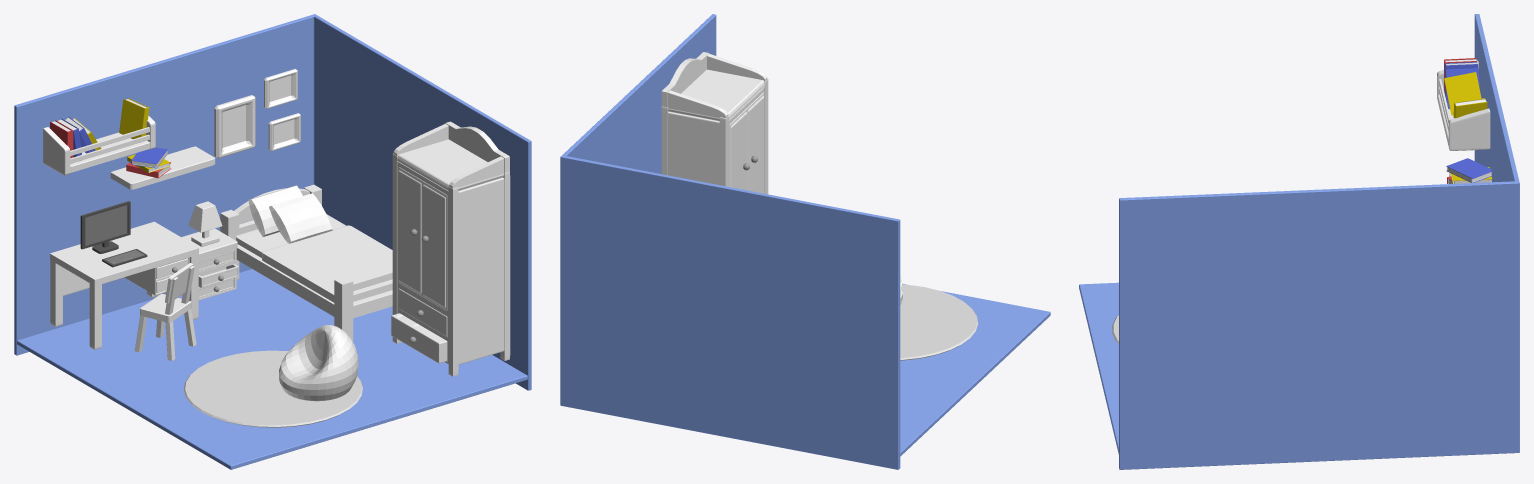
File: room.glb
The picture shows the model from 3 angles, left to right: view 1: azimuth 30°, elevation 25°; view 2: azimuth 150°, elevation 25°; view 3: azimuth 270°, elevation 25°; orthographic projection. The views are drawn at different scales.
Parts seen in each view (by area): view 1: Wall, Floor, Wardrobe 1, Bed 1, Carpet 1, Table 1, Seat 1, Wall bookshelf.001, Chair 1, Bedside table 1, Picture 1.001, PC 1 (+7 smaller); view 2: Wall, Wardrobe 1, Floor, Carpet 1; view 3: Wall, Floor, Wall bookshelf.001, Book stack 2.001, Book stack 1.001, Cube.008.
Part boxes in pixels (<box>): Wall: <box>14,14,531,390</box>; Floor: <box>17,269,527,469</box>; Wardrobe 1: <box>391,121,510,376</box>; Bed 1: <box>220,184,392,341</box>; Carpet 1: <box>183,350,362,427</box>; Table 1: <box>50,221,198,349</box>; Seat 1: <box>279,325,358,401</box>; Wall bookshelf.001: <box>43,115,155,175</box>; Chair 1: <box>135,263,196,360</box>; Bedside table 1: <box>181,228,238,300</box>; Picture 1.001: <box>214,95,255,158</box>; PC 1: <box>80,201,130,253</box>; Wall: <box>560,14,900,469</box>; Wardrobe 1: <box>661,52,768,194</box>; Floor: <box>900,283,1050,456</box>; Carpet 1: <box>900,284,978,360</box>; Wall: <box>1119,14,1519,469</box>; Floor: <box>1079,282,1118,454</box>; Wall bookshelf.001: <box>1437,60,1490,150</box>; Book stack 2.001: <box>1444,58,1481,115</box>; Book stack 1.001: <box>1446,158,1492,183</box>; Cube.008: <box>1453,98,1487,118</box>.
Size of the model in its own units: 8.87 by 6 by 8.87.
